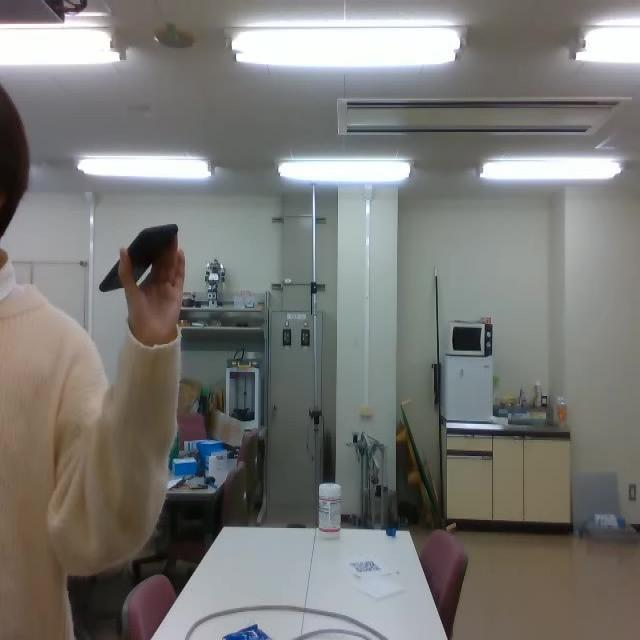Phone: (98, 220, 178, 294)
